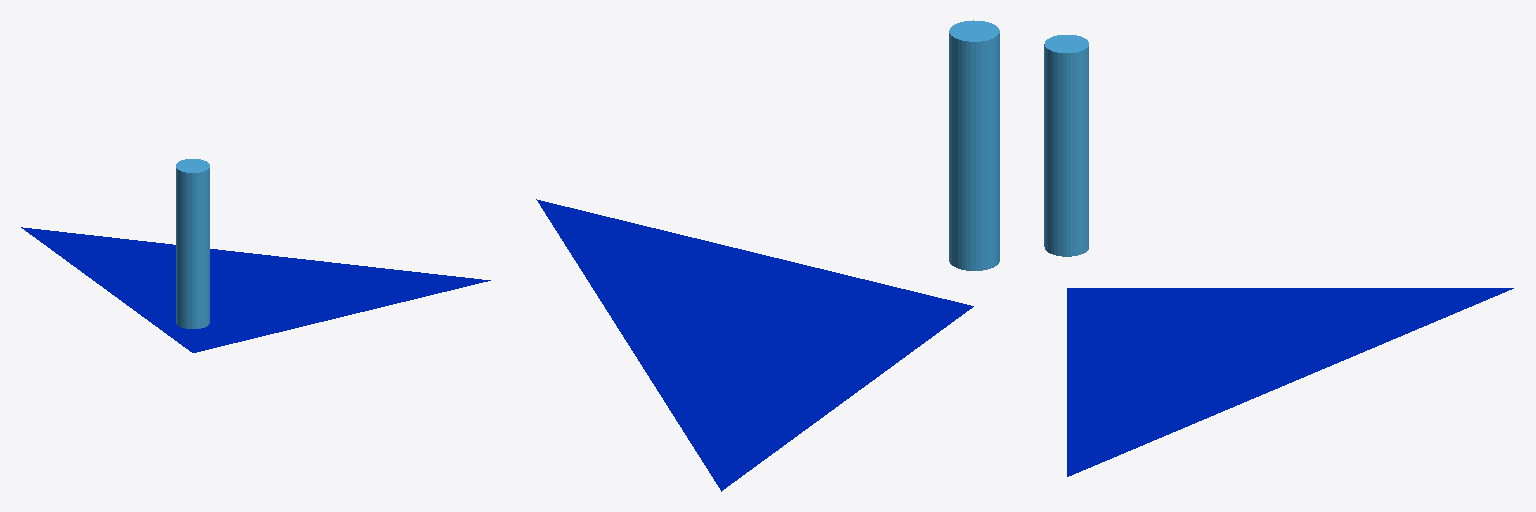
The robot description file, URDF, robot "minimal_robot":
<?xml version="1.0" encoding="utf-8"?>
<robot name="minimal_robot">
  <link name="base_link">
    <inertial>
      <origin xyz="0 0 0" rpy="0 0 0" />
      <mass value="5" />
      <inertia ixx="0.2" ixy="0" ixz="0" iyy="0.3" iyz="0" izz="0.4" />
    </inertial>
    <visual name="base_visual">
      <origin xyz="0 0 0" rpy="0 0 0" />
      <geometry><mesh filename="meshes/base.stl" scale="1 1 1" /></geometry>
      <material name="blue"><color rgba="0 0.2 0.8 1" /></material>
    </visual>
    <collision name="base_collision">
      <origin xyz="0 0 0" rpy="0 0 0" />
      <geometry><box size="0.5 0.4 0.2" /></geometry>
    </collision>
  </link>
  <link name="arm_link">
    <inertial>
      <origin xyz="0 0 0.25" rpy="0 0 0" />
      <mass value="1" />
      <inertia ixx="0.04" ixy="0" ixz="0" iyy="0.04" iyz="0" izz="0.02" />
    </inertial>
    <visual name="arm_visual">
      <origin xyz="0 0 0.25" rpy="0 0 0" />
      <geometry><cylinder radius="0.05" length="0.5" /></geometry>
    </visual>
    <collision name="arm_collision">
      <origin xyz="0 0 0.25" rpy="0 0 0" />
      <geometry><cylinder radius="0.05" length="0.5" /></geometry>
    </collision>
  </link>
  <joint name="shoulder_joint" type="revolute">
    <parent link="base_link" />
    <child link="arm_link" />
    <origin xyz="0 0 0.1" rpy="0 0 0" />
    <axis xyz="0 0 2" />
    <limit lower="-1.5" upper="1.5" effort="20" velocity="3" />
    <dynamics damping="0.1" friction="0.01" />
  </joint>
</robot>

--- Facts derived from the render (not from the file) ---
Views: 3 orthographic renders of the robot side by side, from view 1: azimuth 30°, elevation 25°; view 2: azimuth 150°, elevation 25°; view 3: azimuth 270°, elevation 25°.
Robot: minimal_robot — 2 links, 1 joints (1 revolute); root link base_link; default pose: every joint at zero.
Links seen in each view (by area): view 1: base_link, arm_link; view 2: base_link, arm_link; view 3: base_link, arm_link.
Link boxes in pixels (bbox=[...]): base_link: bbox=[21, 227, 490, 352]; arm_link: bbox=[176, 159, 209, 328]; base_link: bbox=[536, 199, 973, 491]; arm_link: bbox=[949, 20, 999, 270]; base_link: bbox=[1067, 288, 1513, 476]; arm_link: bbox=[1044, 35, 1088, 256].
Size in the robot's own frame: 1.05 by 1.05 by 0.6 metres.
1 mesh visuals loaded from 1 distinct referenced files (1 ASCII STL).
